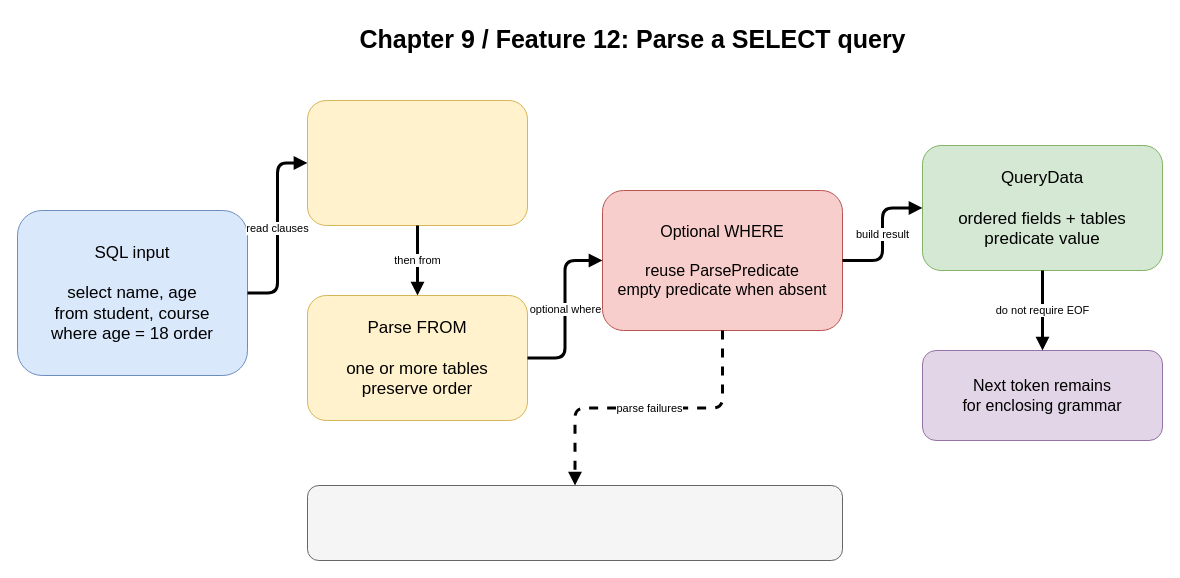
The diagram is 1180 pixels wide and 578 high, and some of its shapes have lost their labels. Here are the shapes that lost their labels. From the top down, the box of each, then its label:
(306, 100, 528, 226): Parse SELECT one or more fields preserve order
(306, 484, 842, 560): Missing keyword, name, or predicate contextual byte-positioned error
